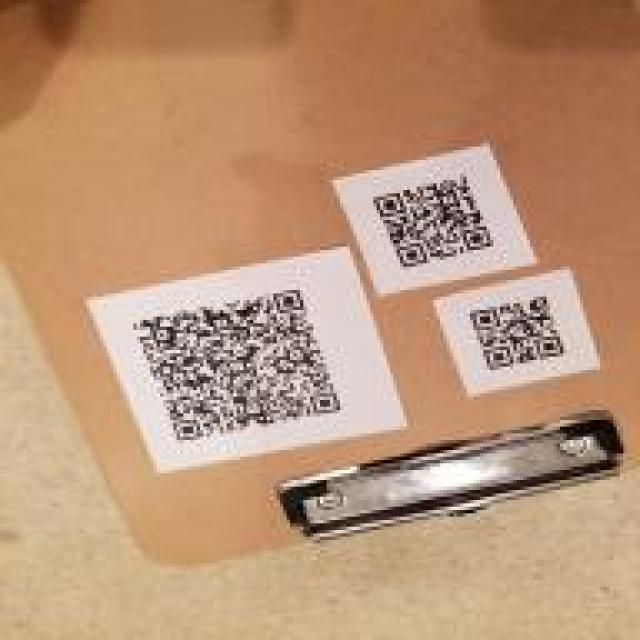QR_CODE: (117, 280, 348, 450), (363, 166, 515, 276), (463, 292, 580, 376)
